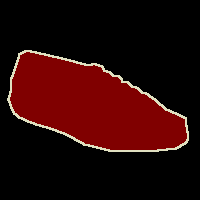shoe: (8, 50, 188, 151)
